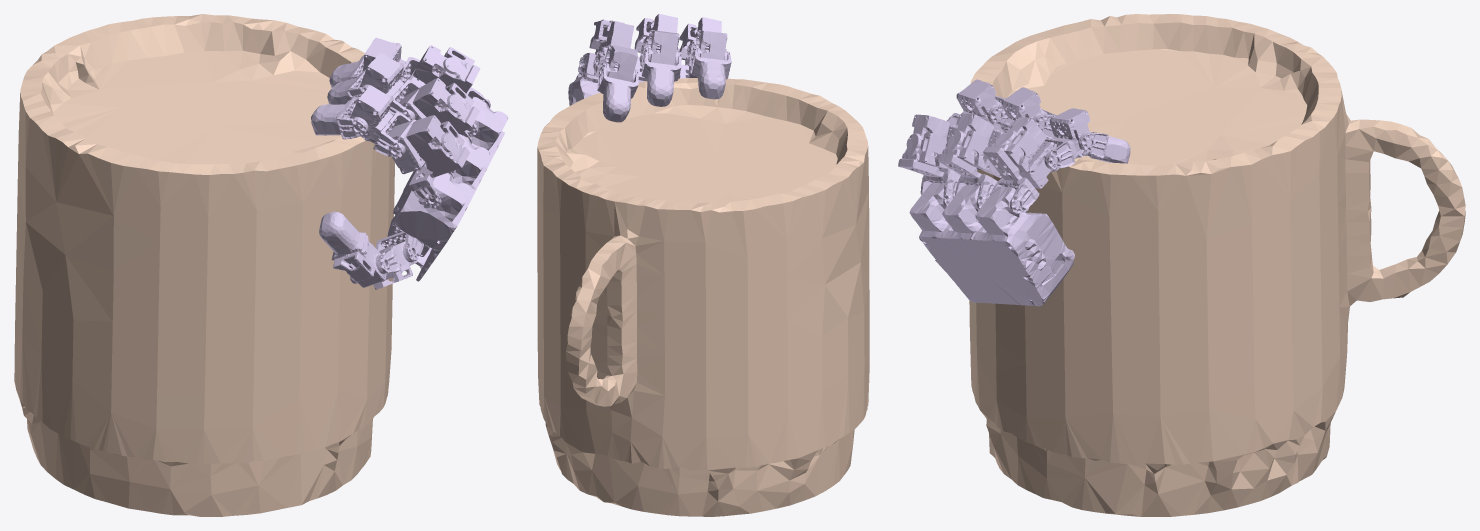
File: 7e07e86af23d5c-closed.glb
3 renders of one model, left to right at view 1: azimuth 30°, elevation 25°; view 2: azimuth 150°, elevation 25°; view 3: azimuth 270°, elevation 25°, orthographic. The views are drawn at different scales.
Parts seen in each view (by area): view 1: world, LEAP_hand; view 2: world, LEAP_hand; view 3: world, LEAP_hand.
Part boxes in pixels (x1,y1,x2,y2): world: (14,14,394,516); LEAP_hand: (311,37,508,289); world: (537,78,869,516); LEAP_hand: (568,14,731,122); world: (969,14,1465,516); LEAP_hand: (898,79,1130,306).
Bounding box in the file's own units: 0.372 × 0.375 × 0.4691.
